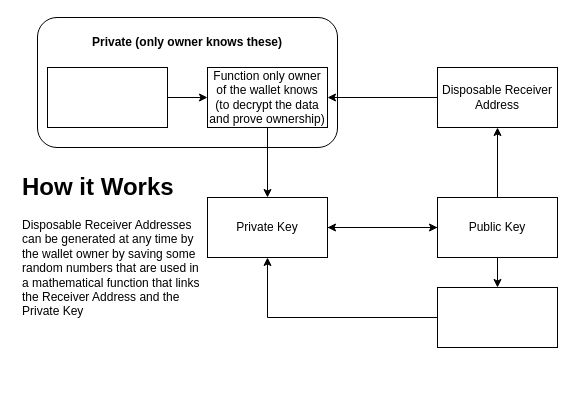
Some shapes in this 575 by 395 pixel diagram are drawn without their labels. The centre of each missing label's shape, as x and y in pixels:
"Public Address" goes at (x=497, y=317).
"Random bits (inputted when generating a Disposable Receiver Address)" goes at (x=107, y=97).
